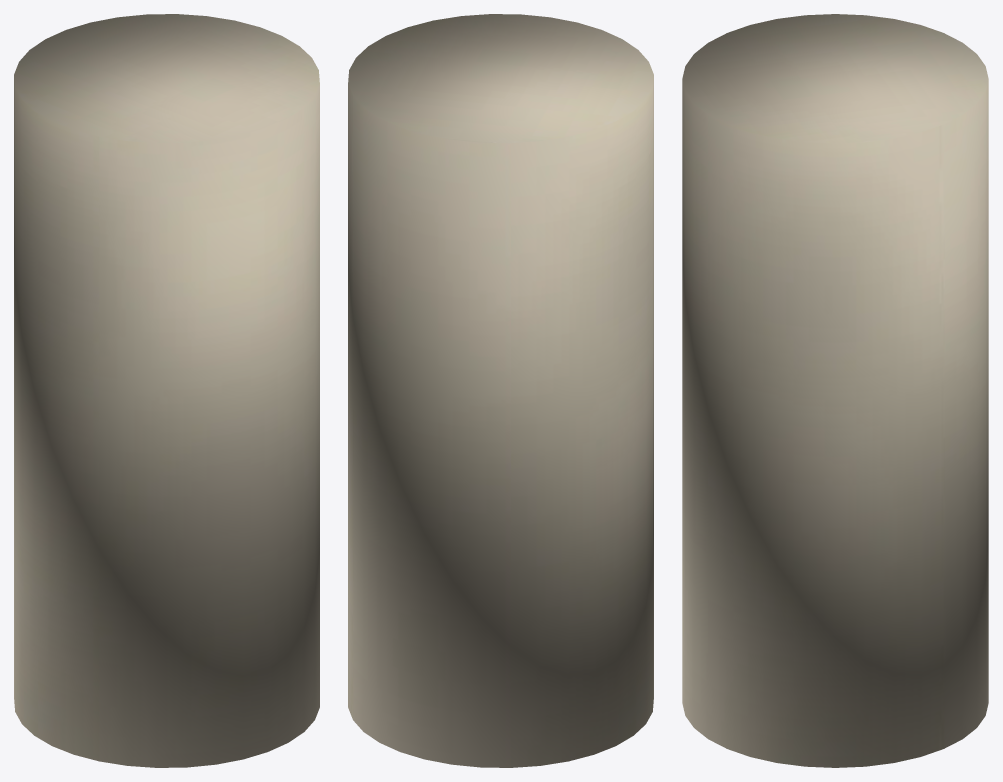
The model's file is candle_big.glb.
The picture shows the model from 3 angles, left to right: view 1: azimuth 30°, elevation 25°; view 2: azimuth 150°, elevation 25°; view 3: azimuth 270°, elevation 25°; orthographic projection.
Visible parts, largest first — view 1: wax; view 2: wax; view 3: wax.
Part boxes in pixels (bbox=[...]): wax: bbox=[14, 14, 319, 767]; wax: bbox=[348, 14, 653, 767]; wax: bbox=[682, 14, 988, 767].
Bounding box in the file's own units: 0.3999 × 0.9 × 0.3999.
1 material, 1 textured.
